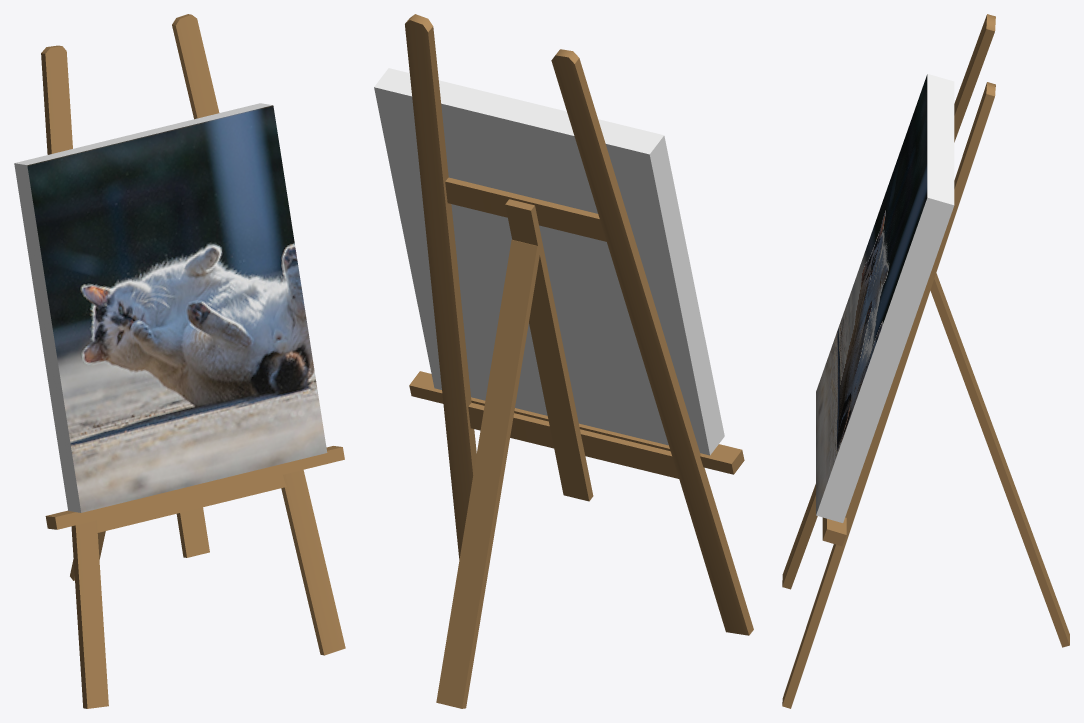
The model's file is ajoumeo_9.fbx.
3 views of the same model, side by side, from view 1: azimuth 30°, elevation 25°; view 2: azimuth 150°, elevation 25°; view 3: azimuth 270°, elevation 25° (orthographic). The views are drawn at different scales.
Visible parts, largest first — view 1: ajoumeo_09; view 2: ajoumeo_09; view 3: ajoumeo_09.
Part boxes in pixels (bbox=[...]): ajoumeo_09: bbox=[14, 14, 345, 708]; ajoumeo_09: bbox=[374, 14, 753, 708]; ajoumeo_09: bbox=[782, 14, 1069, 708].
Size of the model in its own units: 0.6744 by 1.3 by 0.5661.
Materials: 1 (1 with a texture image).
